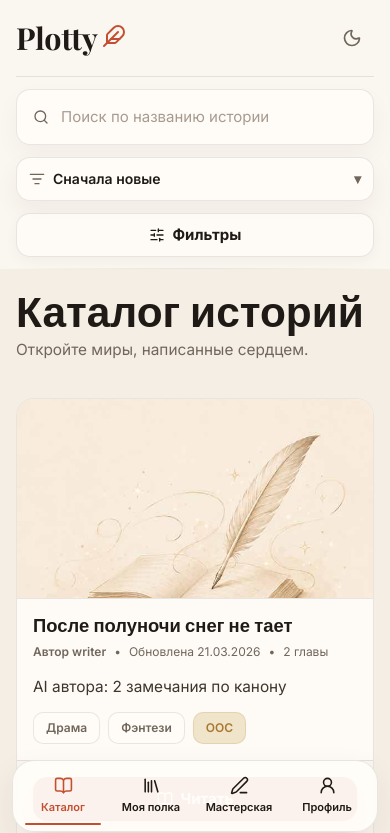
StoriesCatalogShell › offers a local popularity sort without sending an unsupported API sort
Click the button with aria-label "Сортировка" at (107, 178), box [16, 157, 374, 201]
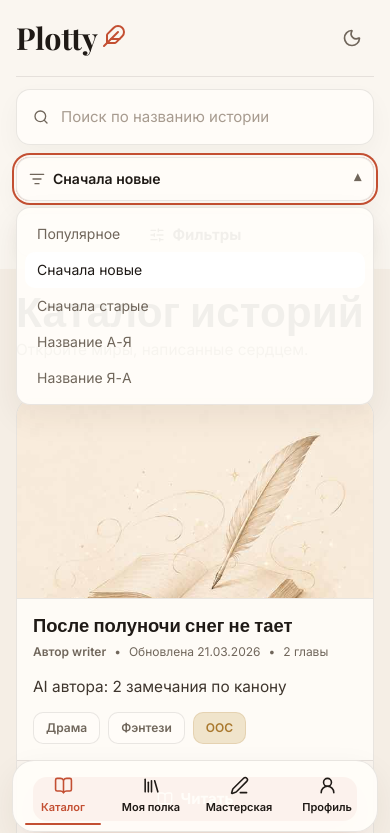
Click the option "Популярное" at (79, 234), box [25, 216, 365, 252]
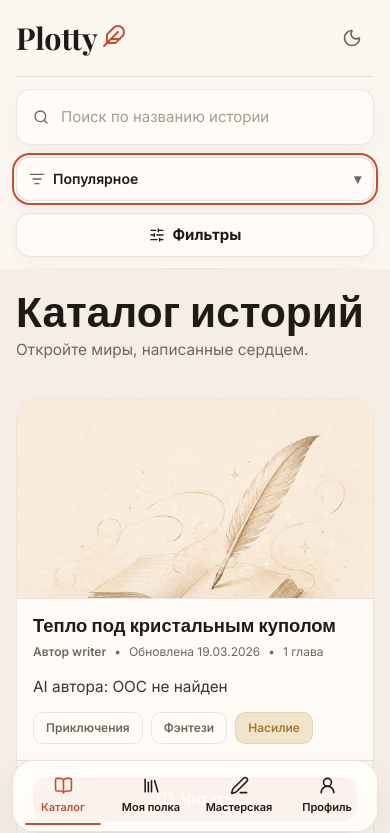
expect the button with aria-label "Сортировка" shows "Популярное": met, box [16, 157, 374, 201]
